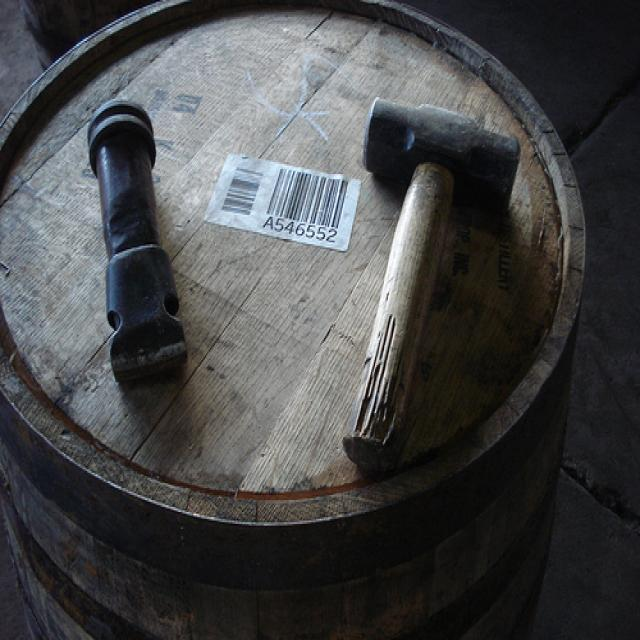hammer: (343, 90, 529, 478)
